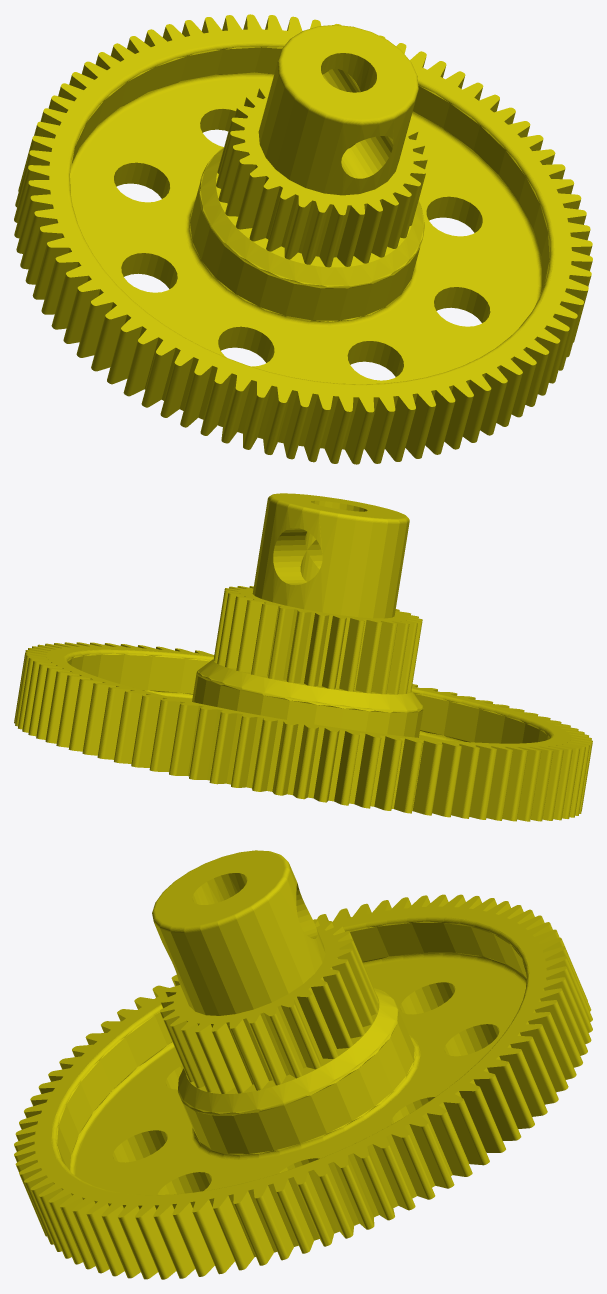
The model's file is BanhRang_2Tang_Nho.glb.
3 renders of one model, top to bottom at view 1: azimuth 30°, elevation 25°; view 2: azimuth 150°, elevation 25°; view 3: azimuth 270°, elevation 25°, orthographic. The views are drawn at different scales.
Visible parts, largest first — view 1: BanhRang_2Tang_Nho; view 2: BanhRang_2Tang_Nho; view 3: BanhRang_2Tang_Nho.
Part boxes in pixels (left/top/right/bottom): BanhRang_2Tang_Nho: left=14, top=14, right=592, bottom=464; BanhRang_2Tang_Nho: left=14, top=493, right=592, bottom=821; BanhRang_2Tang_Nho: left=14, top=850, right=592, bottom=1279.
Bounding box in the file's own units: 117 × 76.18 × 115.
